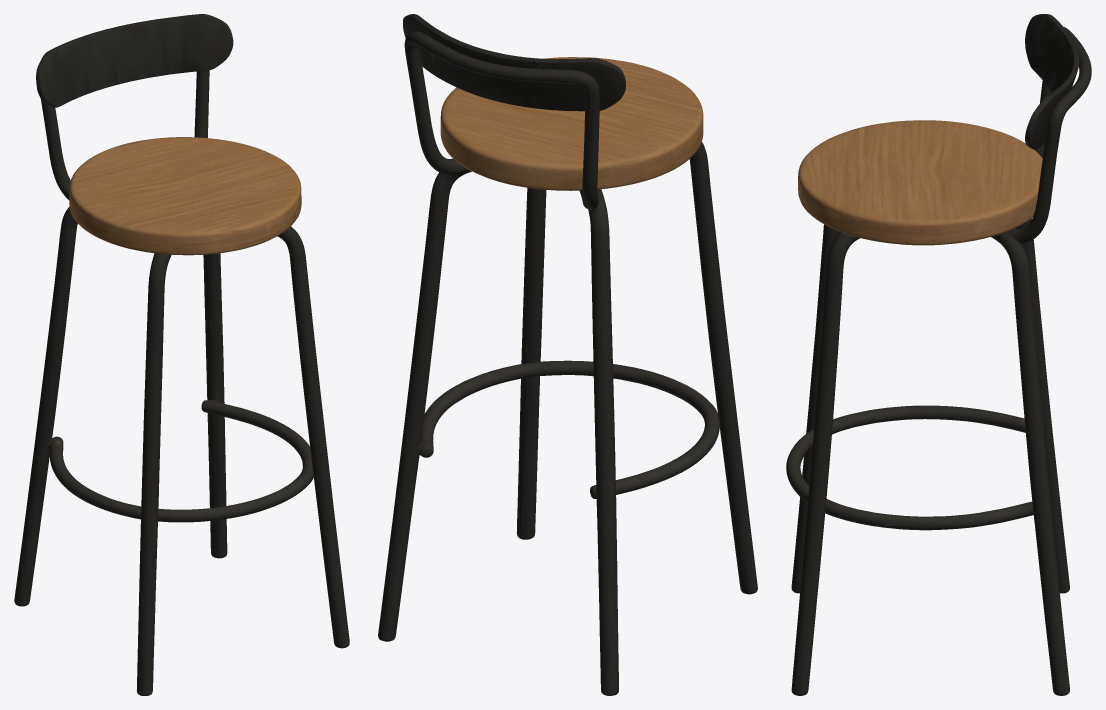
The picture shows the model from 3 angles, left to right: view 1: azimuth 30°, elevation 25°; view 2: azimuth 150°, elevation 25°; view 3: azimuth 270°, elevation 25°; orthographic projection. The views are drawn at different scales.
Visible parts, largest first — view 1: material; view 2: material; view 3: material.
Boxes of the visible parts, x1=… form: material: x1=14, y1=14, x2=349, y2=695; material: x1=378, y1=14, x2=757, y2=695; material: x1=786, y1=14, x2=1091, y2=695.
Size of the model in its own units: 0.4437 by 1.04 by 0.4887.
1 material, 1 textured.
